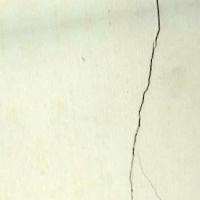crack: (127, 0, 167, 199)
